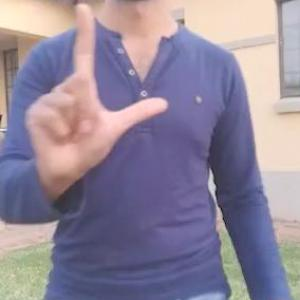land_hand: (17, 0, 172, 188)
